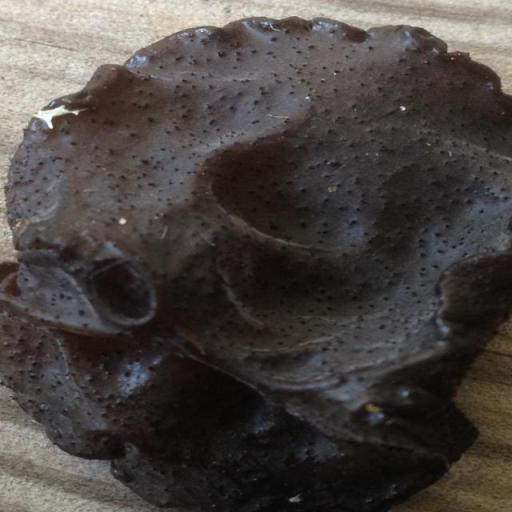mushroom: (3, 22, 512, 511)
